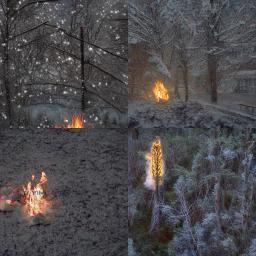Small fire: (0, 172, 52, 217), (143, 140, 172, 183), (54, 115, 97, 129), (149, 79, 174, 103)
